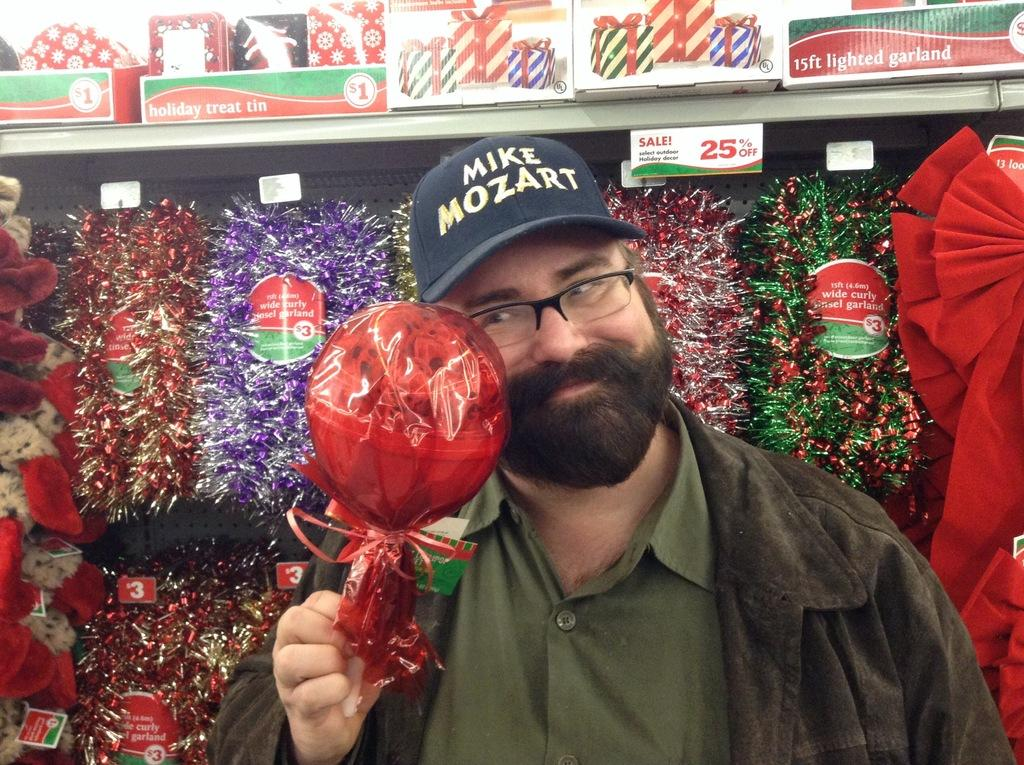Hat: (404, 132, 645, 308)
